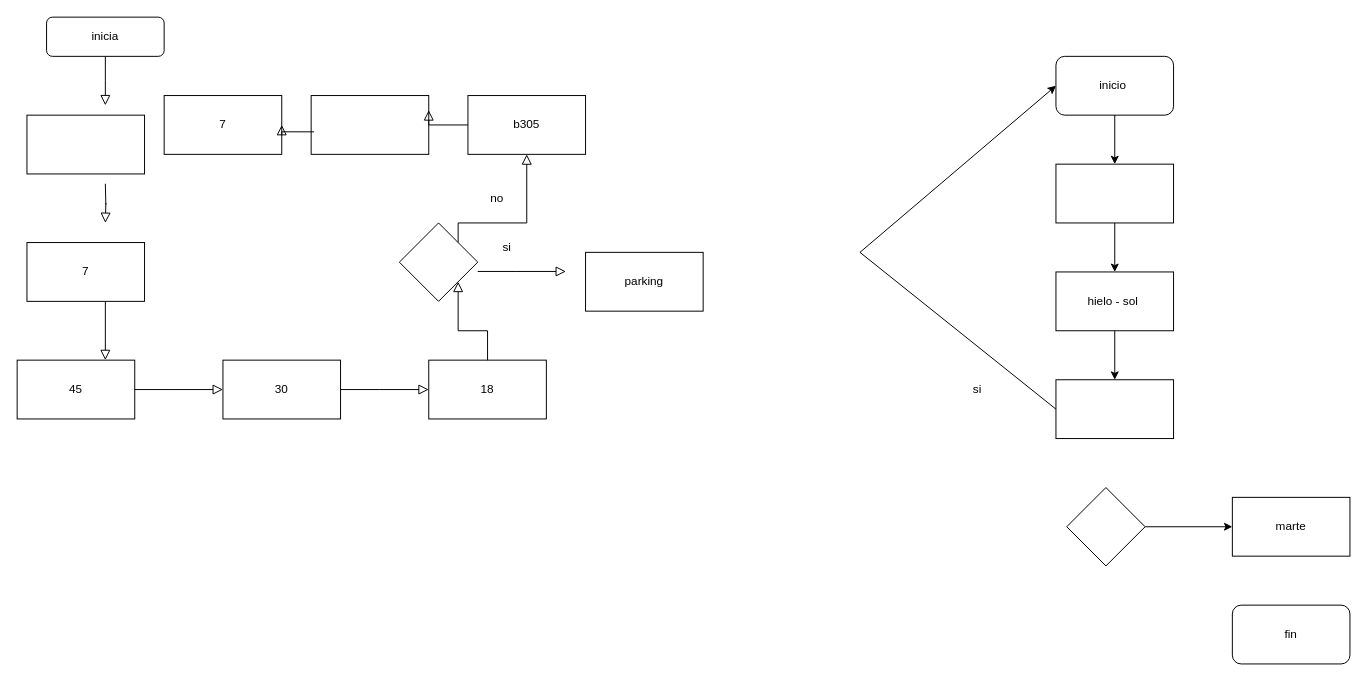
Some shapes in this 1367 by 681 pixel diagram are drawn without their labels. Here are the shapes that lost their labels. From the top down, the centre of each, then its label:
point (85, 144): k309
point (369, 124): centr
point (1114, 193): h=100% sol=10
point (438, 261): final
point (1114, 409): sol + 0.5
point (1105, 526): h?
